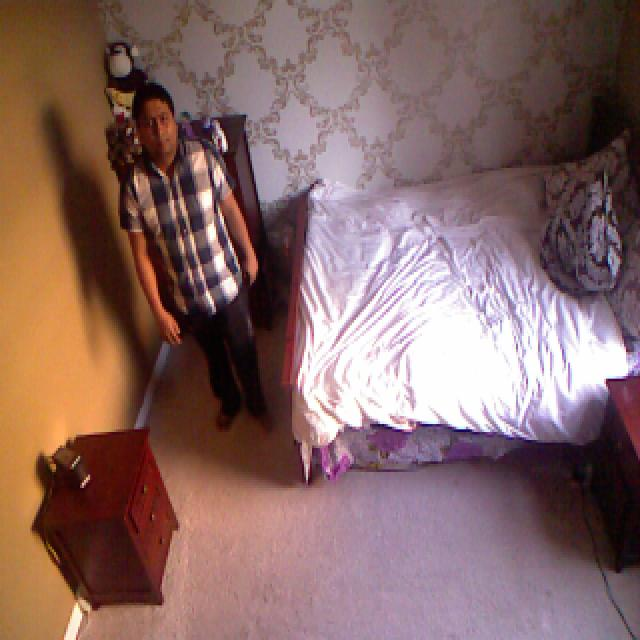standing: (114, 84, 274, 436)
